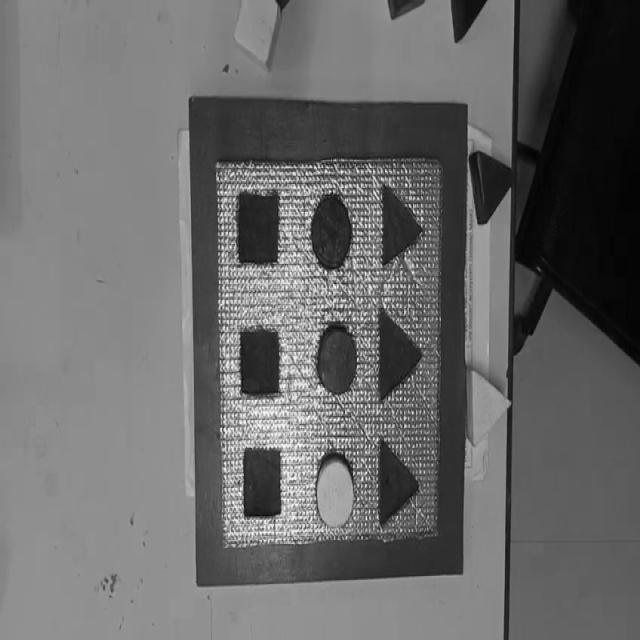btriangle: (449, 0, 486, 41)
mtcircle: (310, 194, 353, 269)
mtcube: (236, 190, 282, 269), (240, 328, 282, 398), (243, 447, 283, 520)
mttriangle: (377, 305, 422, 403), (378, 436, 419, 528), (380, 183, 423, 266)
rcircle: (315, 322, 359, 398)
rtriangle: (468, 151, 513, 226)
wb: (216, 154, 444, 554)
ycircle: (315, 454, 356, 529)
ycube: (233, 0, 280, 69)
ytriangle: (465, 366, 512, 449)
